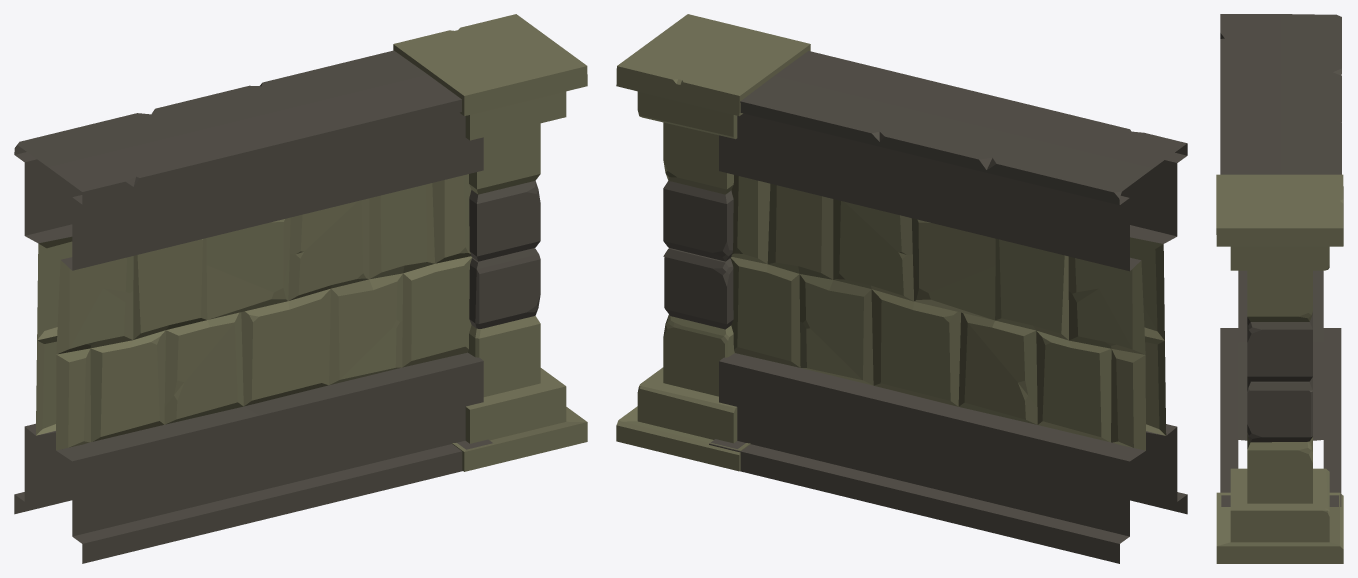
Rendered from Wall.fbx.
3 views of the same model, side by side, from view 1: azimuth 30°, elevation 25°; view 2: azimuth 150°, elevation 25°; view 3: azimuth 270°, elevation 25° (orthographic). The views are drawn at different scales.
Parts seen in each view (by area): view 1: WallType1.001; view 2: WallType1.001; view 3: WallType1.001.
Boxes of the visible parts, x1,y1,x2,y2 form: WallType1.001: [14, 14, 587, 563]; WallType1.001: [616, 14, 1187, 563]; WallType1.001: [1216, 14, 1343, 563].
Bounding box in the file's own units: 1049 × 747 × 256.
